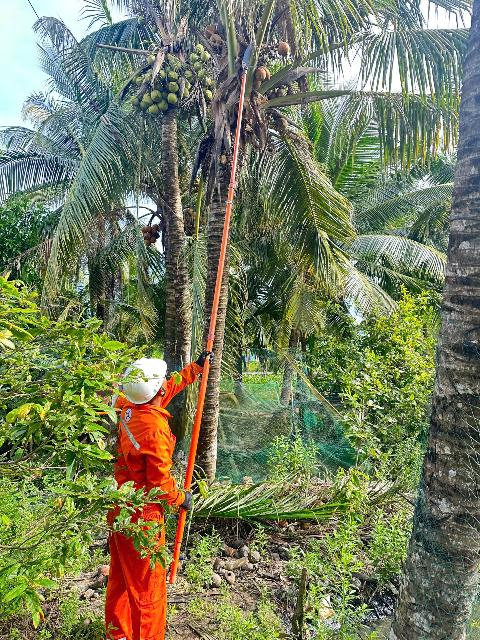gloves: (186, 342, 228, 378), (176, 489, 199, 512)
helmet: (115, 345, 171, 404)
